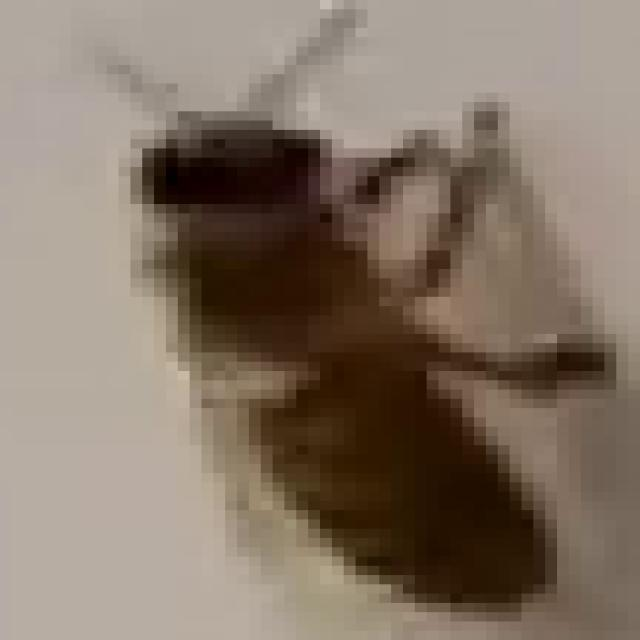honeybee: (144, 109, 580, 631)
